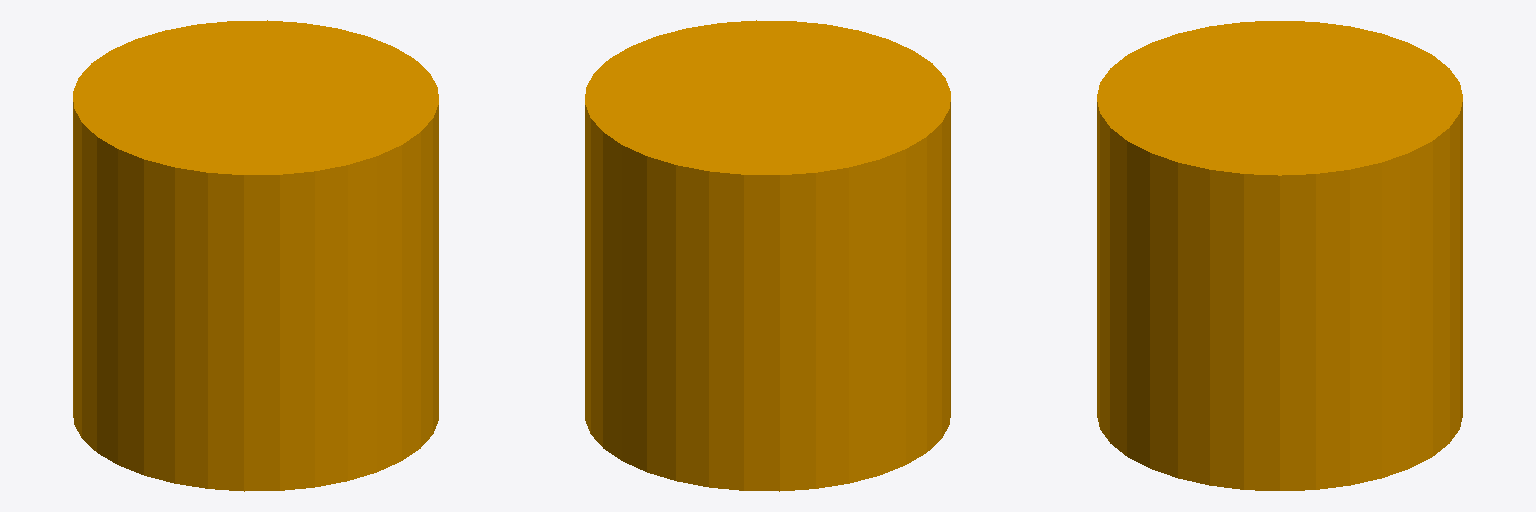
URDF robot description (object):
<robot name="object">
  <link name="object">
    <visual>
      <origin xyz="0 0 0" />
      <geometry>
        <cylinder length="0.07600000000000001" radius="0.04" />
      </geometry>
    </visual>

    <collision>
      <origin xyz="0 0 0" />
      <geometry>
        <cylinder length="0.07600000000000001" radius="0.04" />
      </geometry>
    </collision>

    <inertial>
      <mass value="0.05" />
      <inertia ixx="0.0001" ixy="0.0" ixz="0.0" iyy="0.0001" iyz="0.0" izz="0.0001" />
    </inertial>
  </link>
</robot>

--- Render facts (derived) ---
Views: 3 orthographic renders of the robot side by side, from view 1: azimuth 30°, elevation 25°; view 2: azimuth 150°, elevation 25°; view 3: azimuth 270°, elevation 25°.
Model object with 1 links and 0 joints (none), rooted at object, posed every joint at zero.
Visible links, largest first — view 1: object; view 2: object; view 3: object.
Boxes of the visible links, box(x1,y1,x2,y2) form: object: box(73, 20, 438, 491); object: box(585, 20, 950, 491); object: box(1097, 21, 1462, 490).
Bounding box of the posed robot: 0.08 × 0.08 × 0.076 m (x, y, z).
Geometry: primitives only (box / cylinder / sphere), no mesh files.